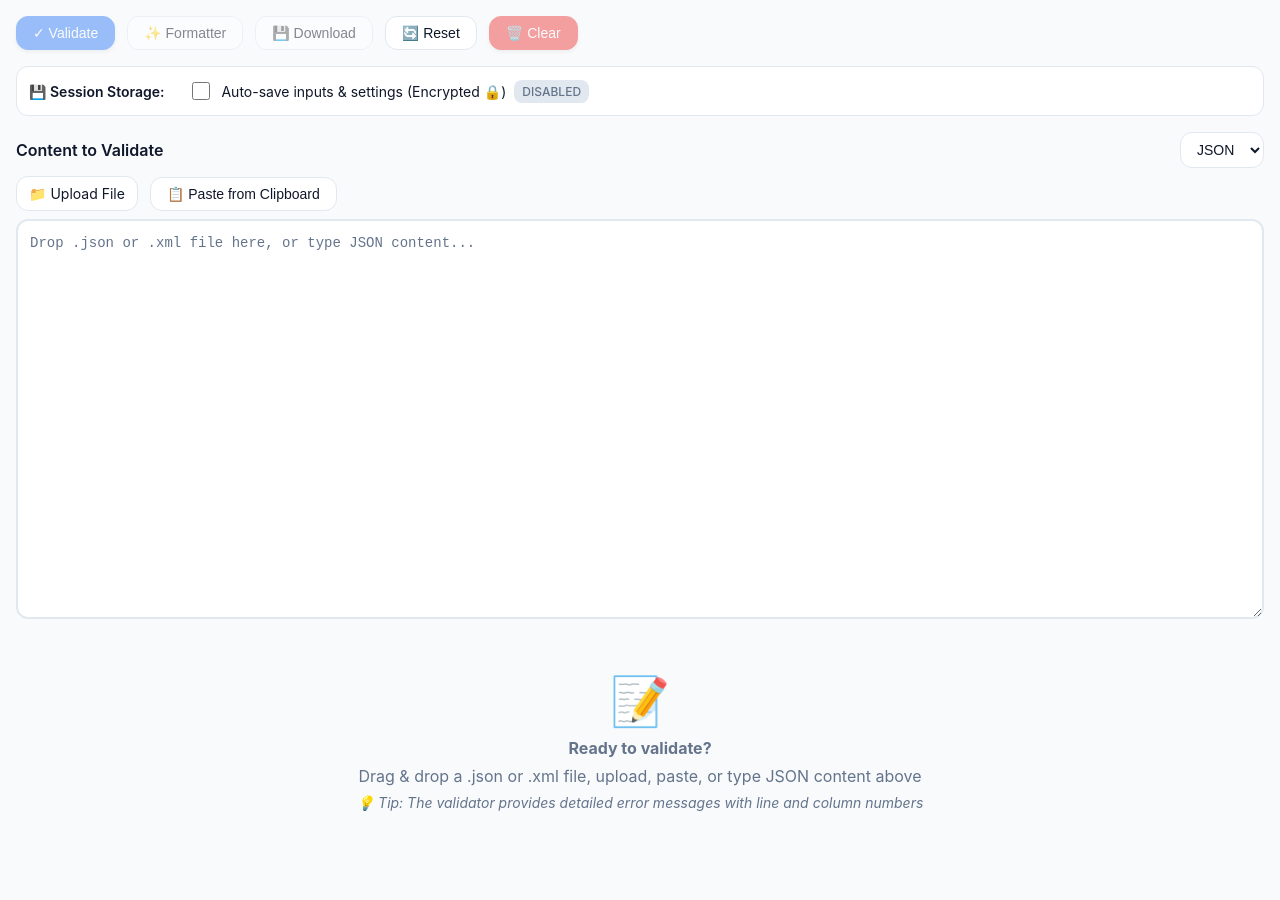
Validator Component › XML Validation - Invalid › should show error for unclosed XML tag
Select "XML" in the dropdown: (1222, 150) x1=1180 y1=132 x2=1264 y2=168
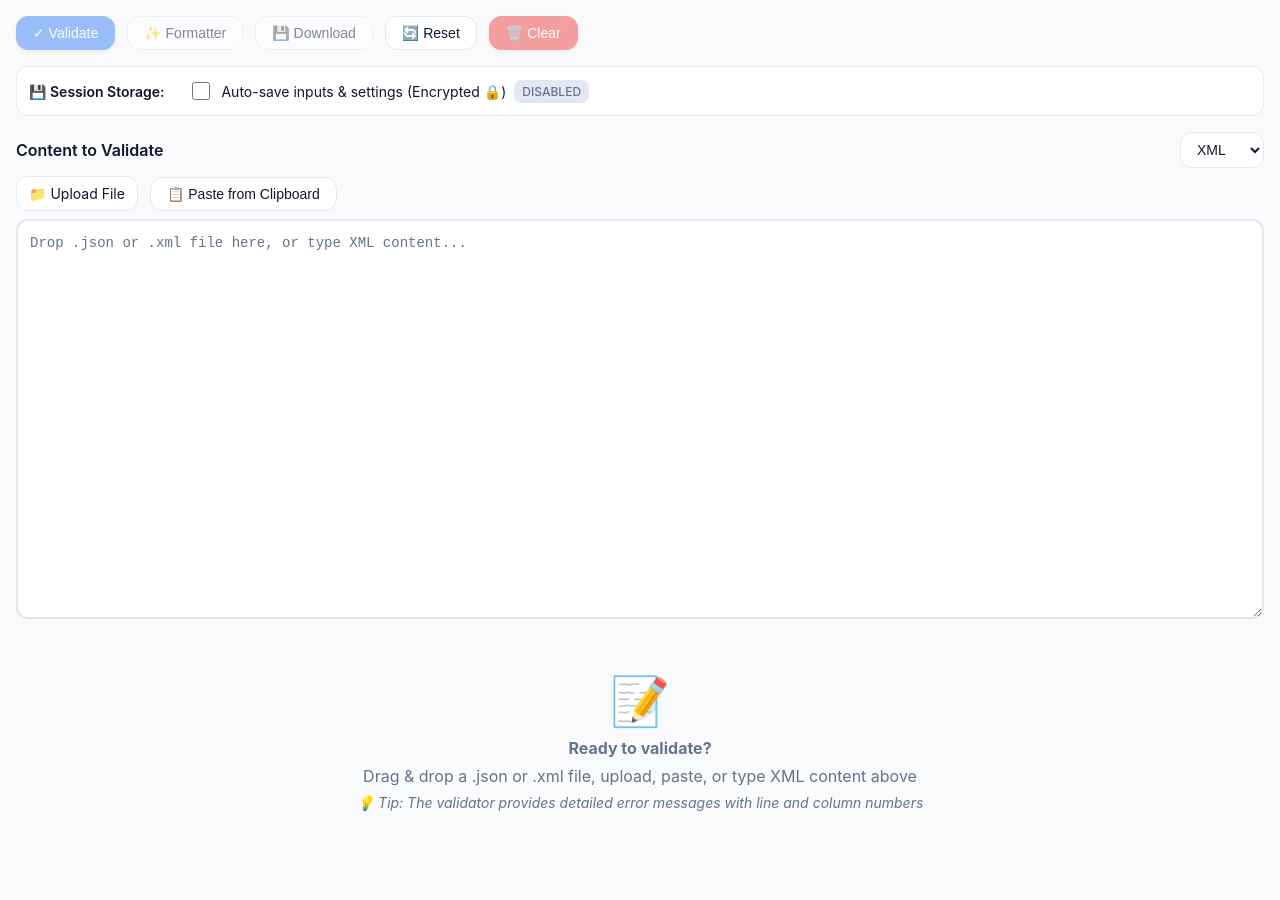
In the text box with placeholder "Drop .json or .xml file here, or type XML content...": (640, 419) x1=16 y1=219 x2=1264 y2=619, type "<root><item>test</root>"
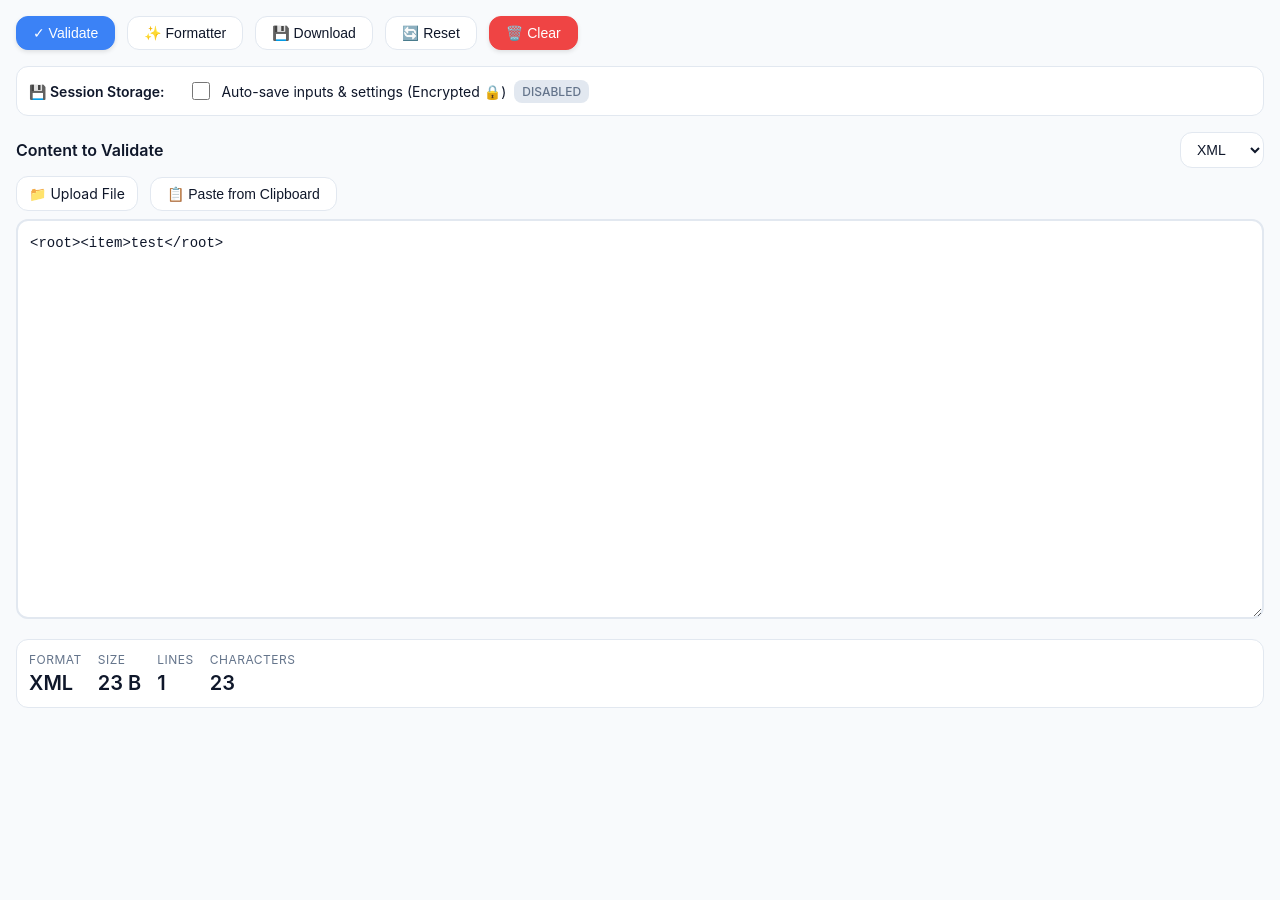
Click the button "✓ Validate": (66, 33) x1=16 y1=16 x2=115 y2=50
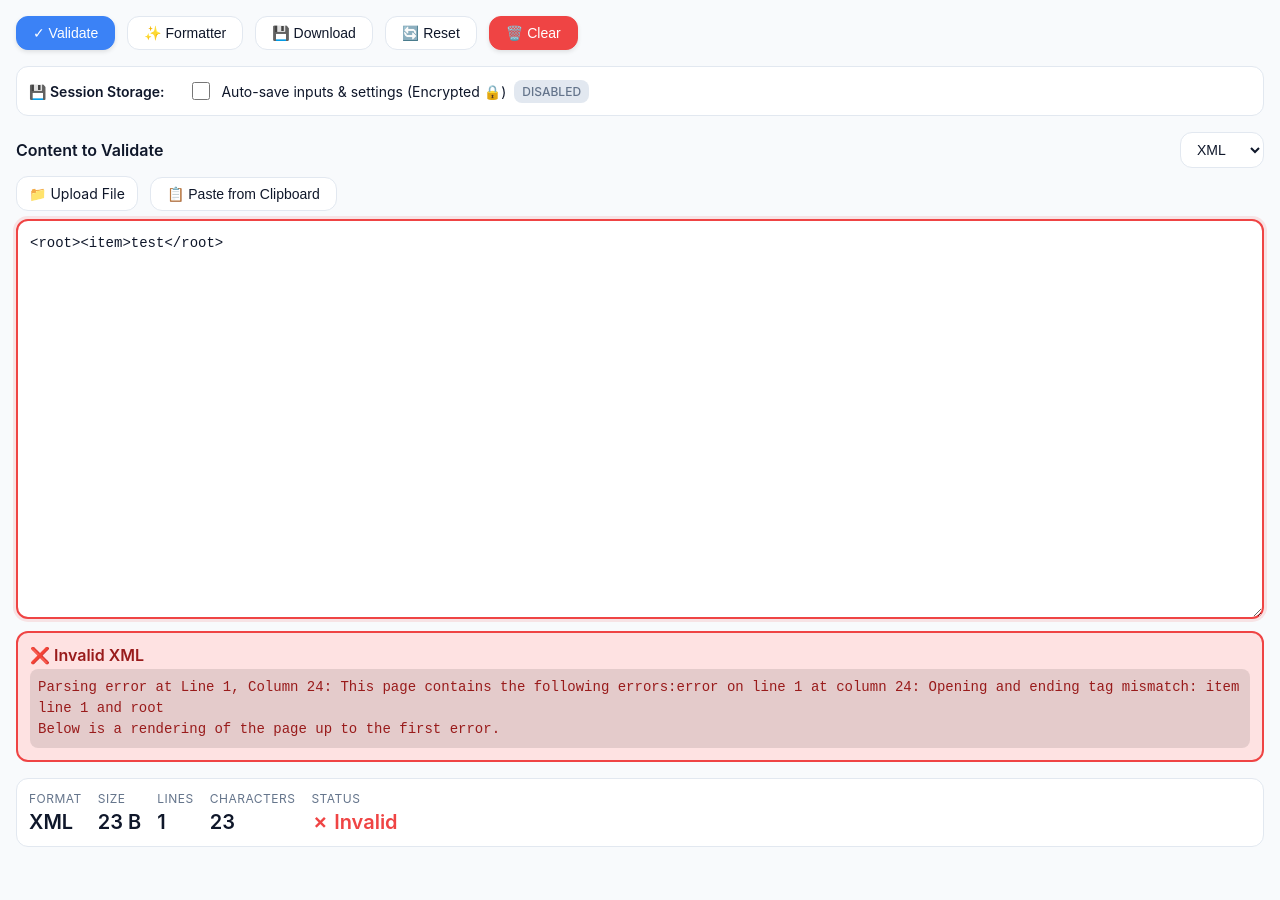
Check: the text "❌ Invalid XML" is shown, box x1=30 y1=645 x2=144 y2=665
